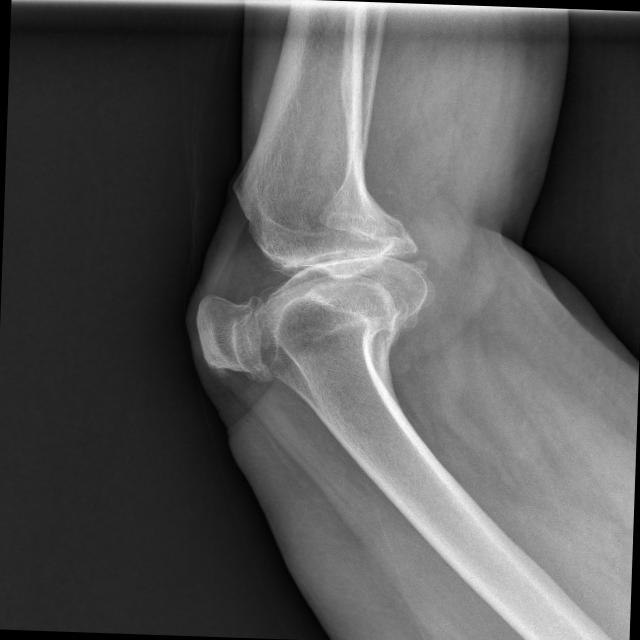Knee: (196, 203, 433, 380)
